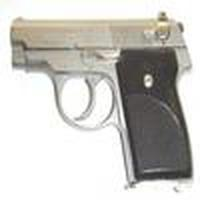gun: (6, 13, 197, 191)
